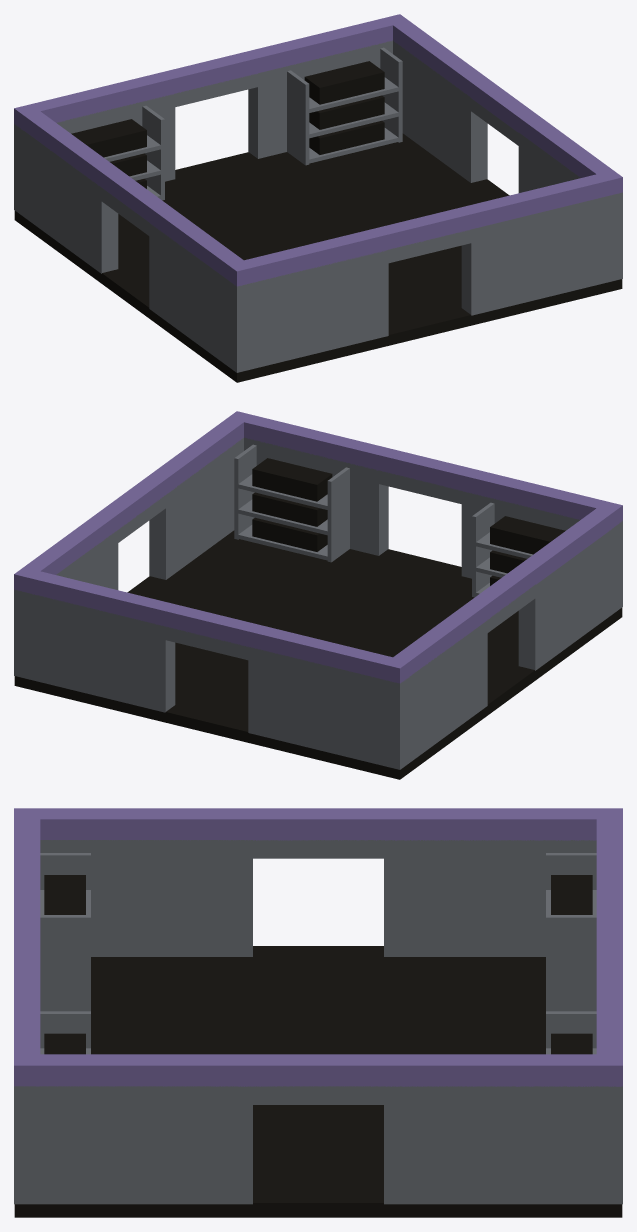
The model's file is BurialVault.fbx.
3 views of the same model, one above another, from view 1: azimuth 30°, elevation 25°; view 2: azimuth 150°, elevation 25°; view 3: azimuth 270°, elevation 25° (orthographic). The views are drawn at different scales.
Visible parts, largest first — view 1: BurialVault; view 2: BurialVault; view 3: BurialVault.
Part boxes in pixels (x1,y1,x2,y2): BurialVault: (14,14,622,382); BurialVault: (14,411,622,779); BurialVault: (14,808,622,1217).
Size of the model in its own units: 1202 by 332 by 1202.
3 materials, 3 textured.
